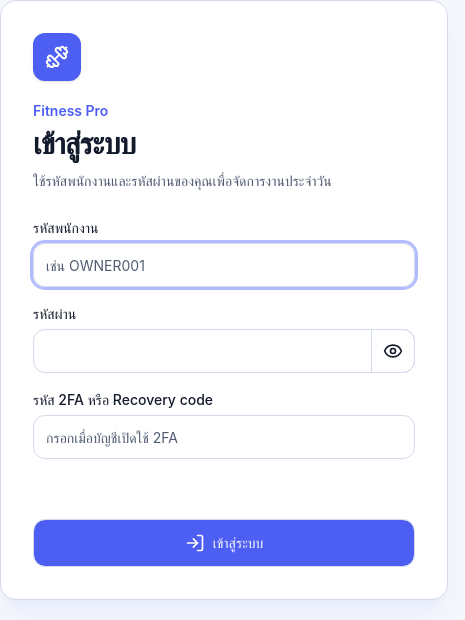
it: LoginForm › ส่ง payload ที่กำหนด ปิด controls ระหว่างรอ และไปยัง returnTo ที่ server ตอบ
Type "OWNER001" into the field labelled "รหัสพนักงาน" at coordinates (224, 265), box [33,243,415,287]
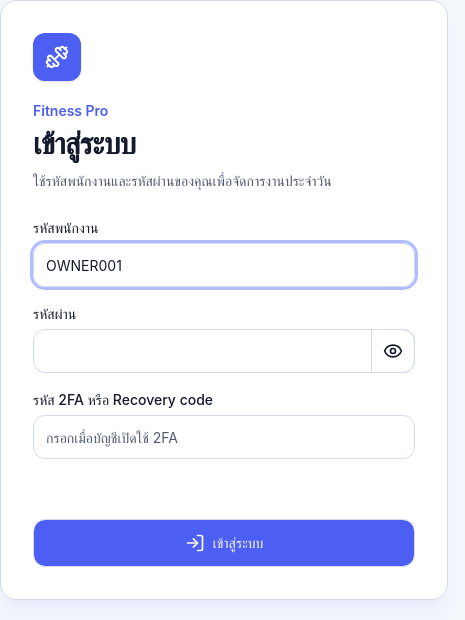
Type "ValidPass#2026" into the password field labelled "รหัสผ่าน" at coordinates (224, 351), box [33,329,415,373]
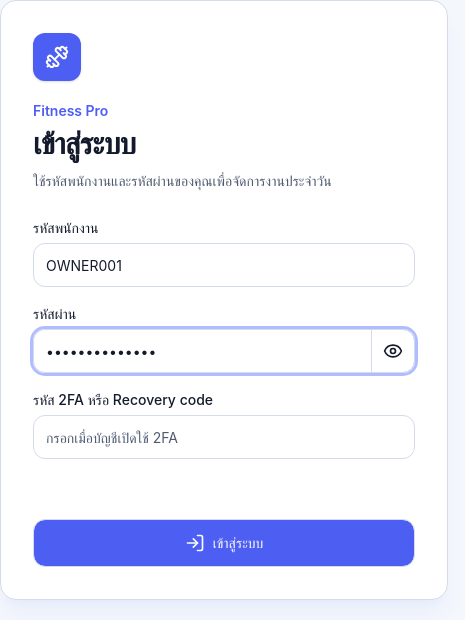
Click the button "เข้าสู่ระบบ" at coordinates (224, 543), box [33,519,415,567]
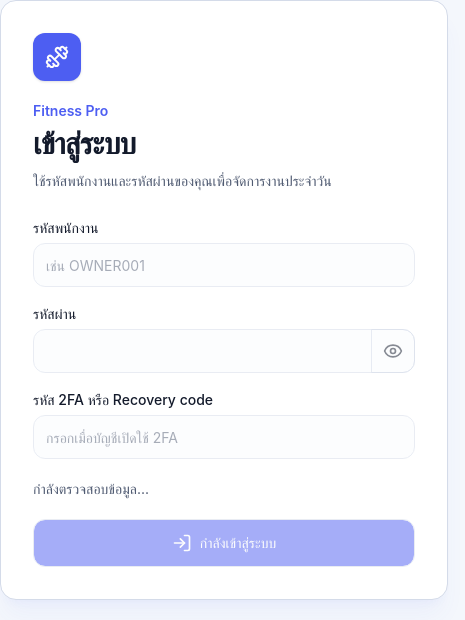
expect the button "กำลังเข้าสู่ระบบ" is disabled: met, box [33,519,415,567]
